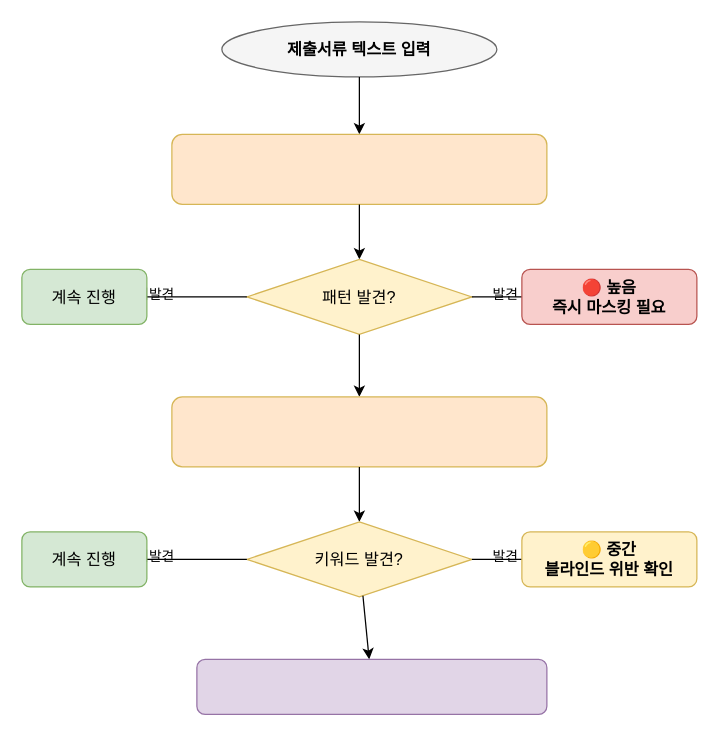
The diagram is 719 pixels wide and 736 high, and some of its shapes have lost their labels. Here are the shapes that lost their labels. From the top down, the centre of each, then its label:
pixel 359 168: 정규식 패턴 탐지 주민번호 / 전화번호 / 이메일 / 생년월일
pixel 359 431: 학교명 키워드 탐지 고등학교 / 대학교 / 출신학교 등
pixel 371 686: 위험도 분류 결과 출력
